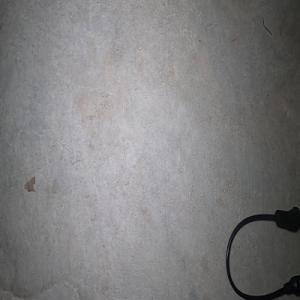Wire: (225, 206, 300, 299)
